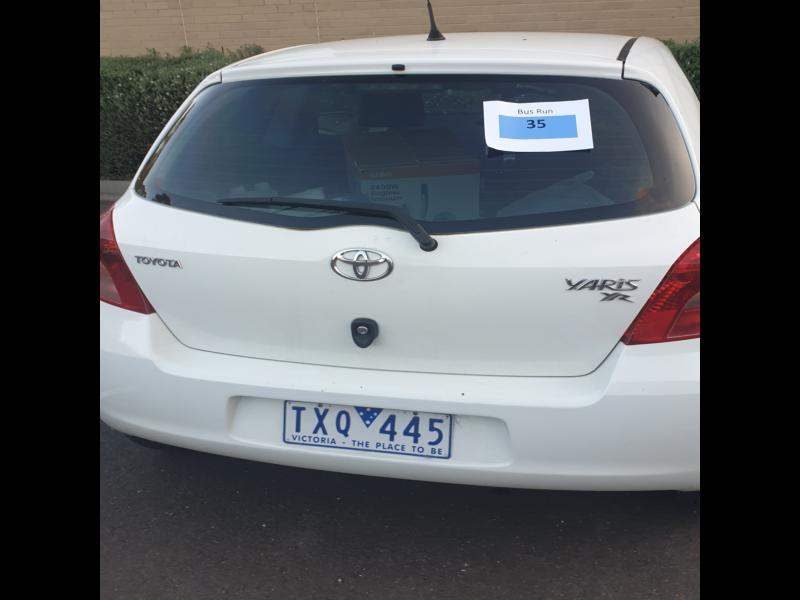BusRun: (499, 113, 580, 140)
PlateNo: (280, 398, 453, 458)
